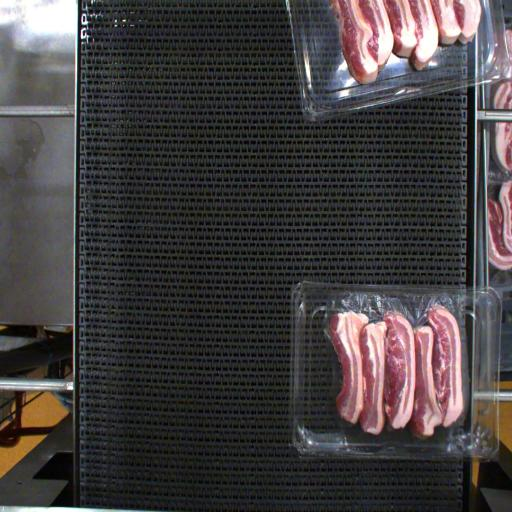unsealed: (302, 286, 479, 363)
